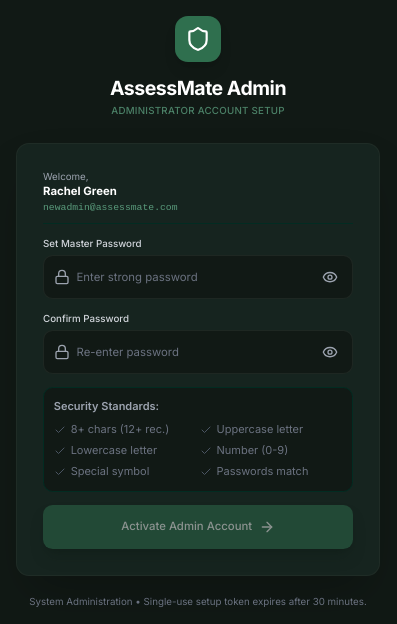
it: Batch 3: Admin Portal Comprehensive Automated Tests › Admin Setup Password Page › validates token and allows setting up new password
Later steps or results of the test are not shown.
Expected: the text "Rachel Green" is shown, [43,184,117,198]
Expected: the text "newadmin@assessmate.com" is shown, [43,202,178,213]
Type "StrongAdminPass123!" into the password field with placeholder "Enter strong password".
click(198, 277); type("StrongAdminPass123!")  # box [43,255,353,299]
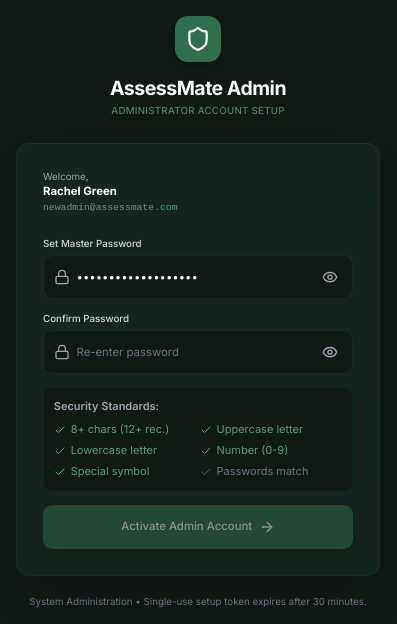
Type "StrongAdminPass123!" into the password field with placeholder "Re-enter password".
click(198, 352); type("StrongAdminPass123!")  # box [43,330,353,374]
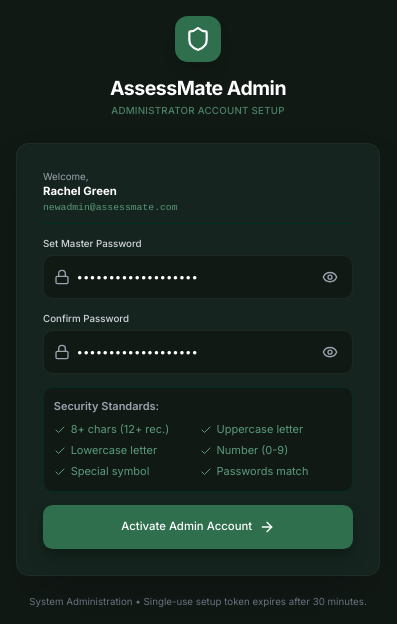
Result: the button "Activate Admin Account" is enabled at [43,504,353,548]
